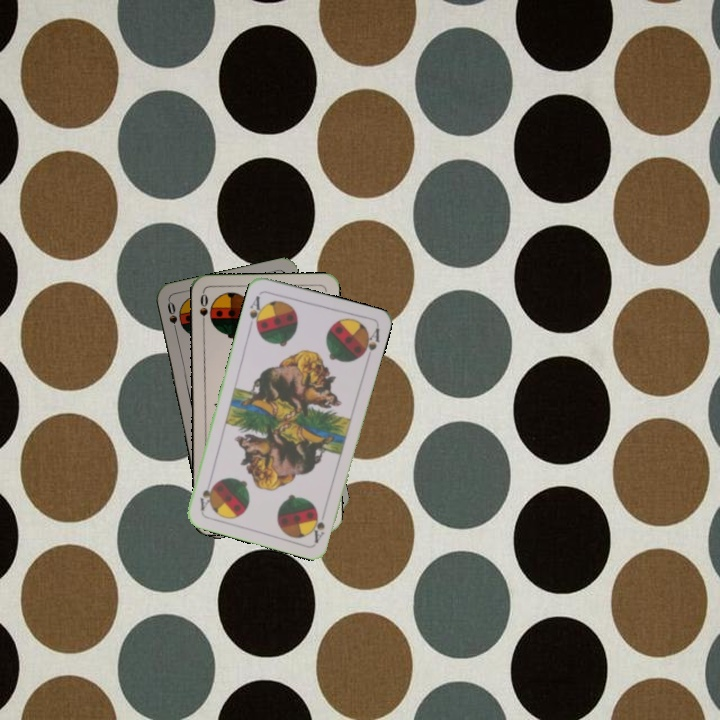SA: (245, 291, 267, 332), (308, 508, 327, 545)
SO: (163, 297, 180, 338), (195, 289, 210, 330)
